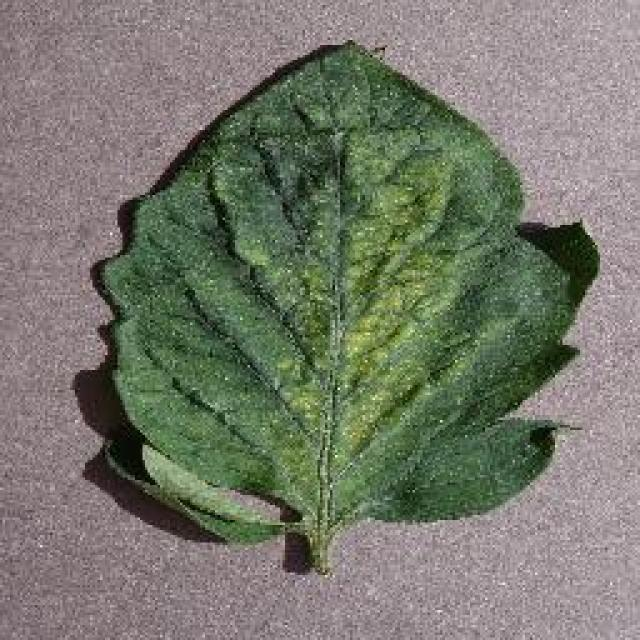Tom_Spider_mites Two-spotted_spider_mite: (200, 110, 472, 454)
